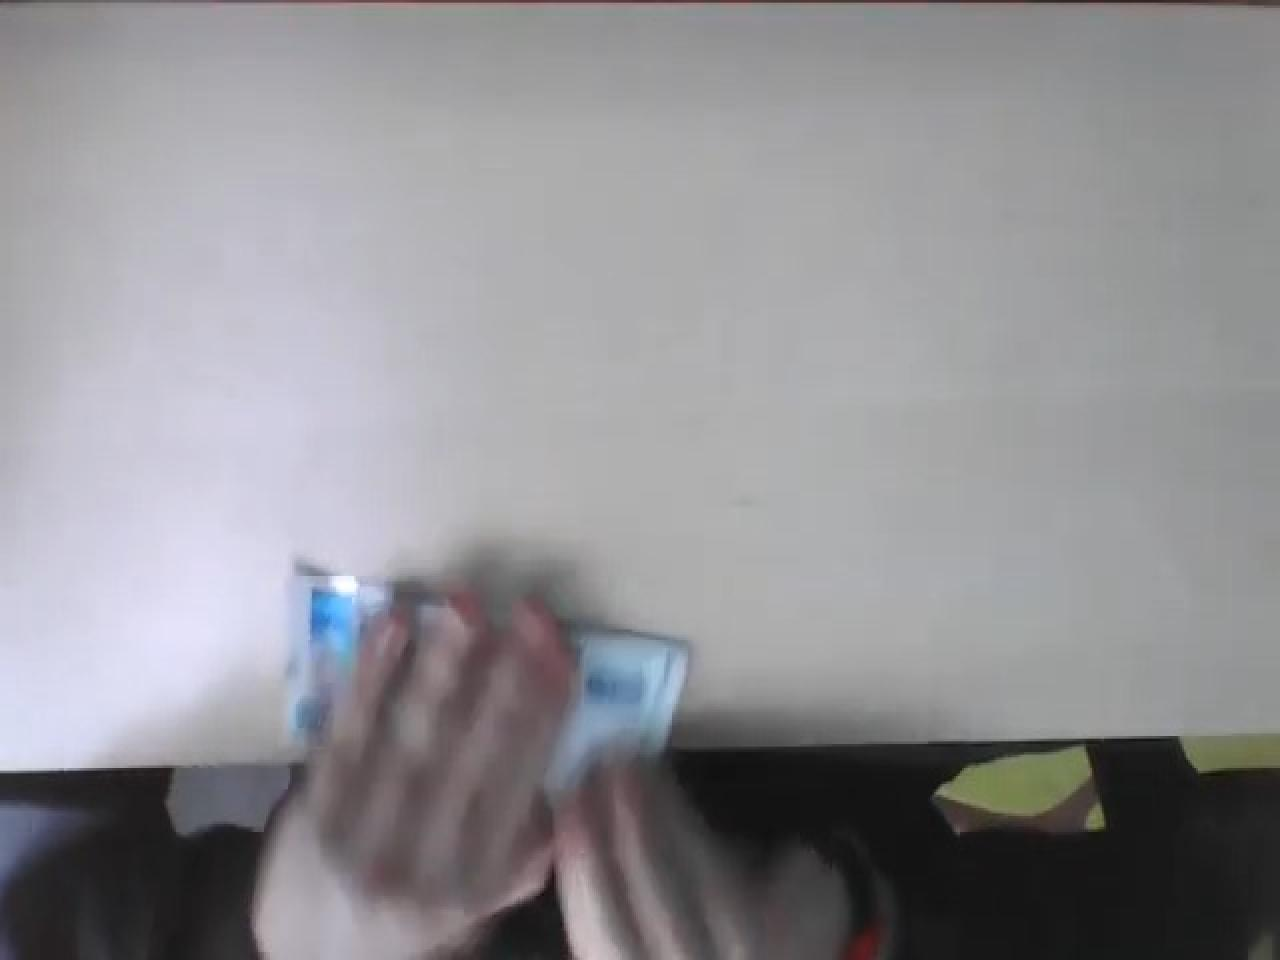100leva: (282, 568, 690, 808)
